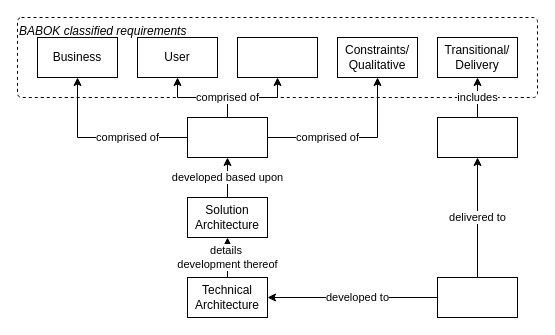
Some shapes in this 555 by 335 pixel diagram are drawn without their labels. Each missing label, with the centre of its shape:
"Development" belongs at point 477,297.
"Process Requirements" belongs at point 477,137.
"Quality" belongs at point 277,57.
"System Requirements" belongs at point 227,137.
